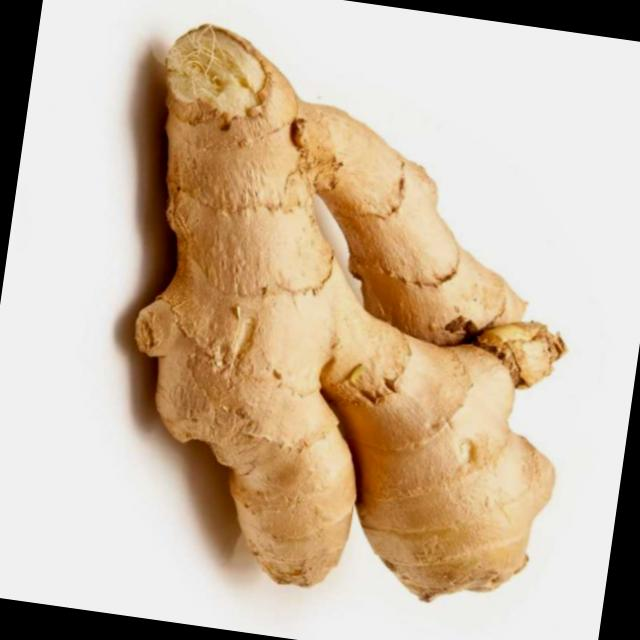ginger-root: (74, 0, 623, 630)
